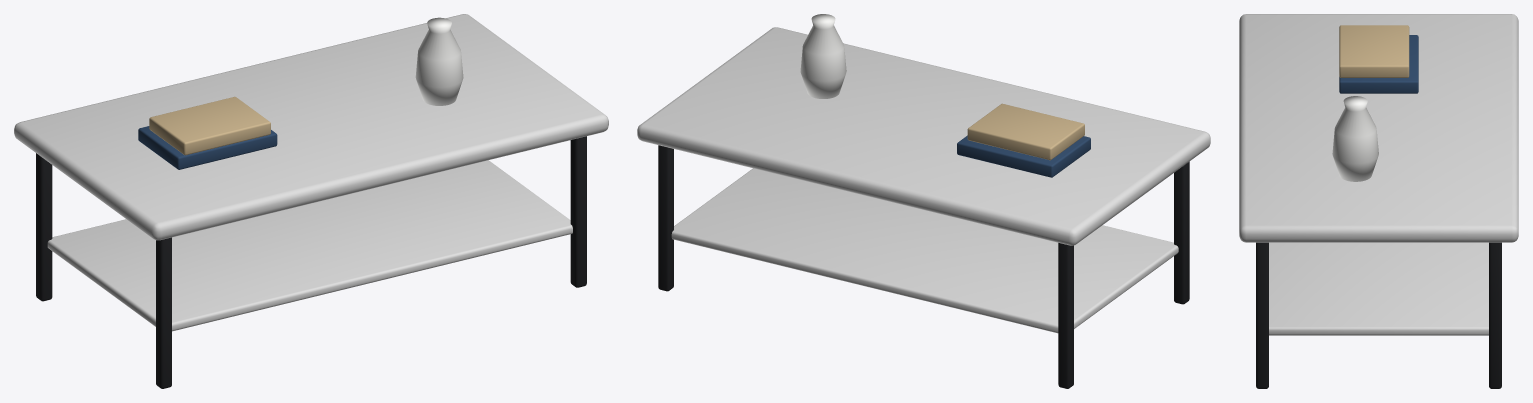
Rendered from mesa_centro.glb.
3 views of the same model, side by side, from view 1: azimuth 30°, elevation 25°; view 2: azimuth 150°, elevation 25°; view 3: azimuth 270°, elevation 25° (orthographic). The views are drawn at different scales.
Visible parts, largest first — view 1: p; view 2: p; view 3: p.
Boxes of the visible parts, <box> form: p: <box>14,14,608,388</box>; p: <box>637,14,1210,388</box>; p: <box>1239,14,1518,388</box>.
Bounding box in the file's own units: 1.1 × 0.575 × 0.6.
